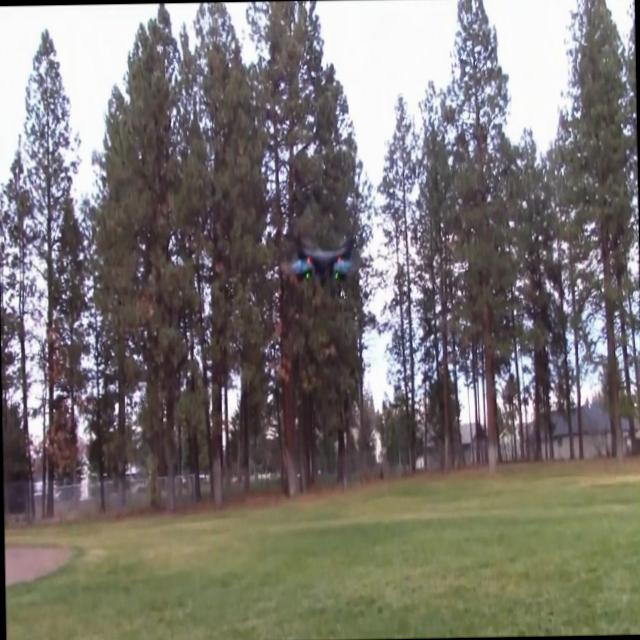drone: (292, 224, 358, 302)
